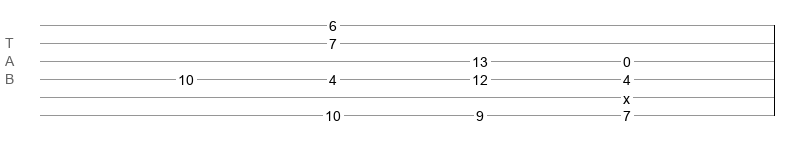0: (623, 54, 631, 64)
10: (178, 72, 194, 82), (325, 108, 341, 118)
12: (472, 72, 488, 82)
13: (472, 54, 488, 64)
4: (329, 72, 337, 82), (623, 72, 631, 82)
6: (329, 18, 337, 28)
7: (329, 36, 337, 46), (623, 108, 631, 118)
9: (476, 108, 484, 118)
x: (623, 91, 630, 99)
